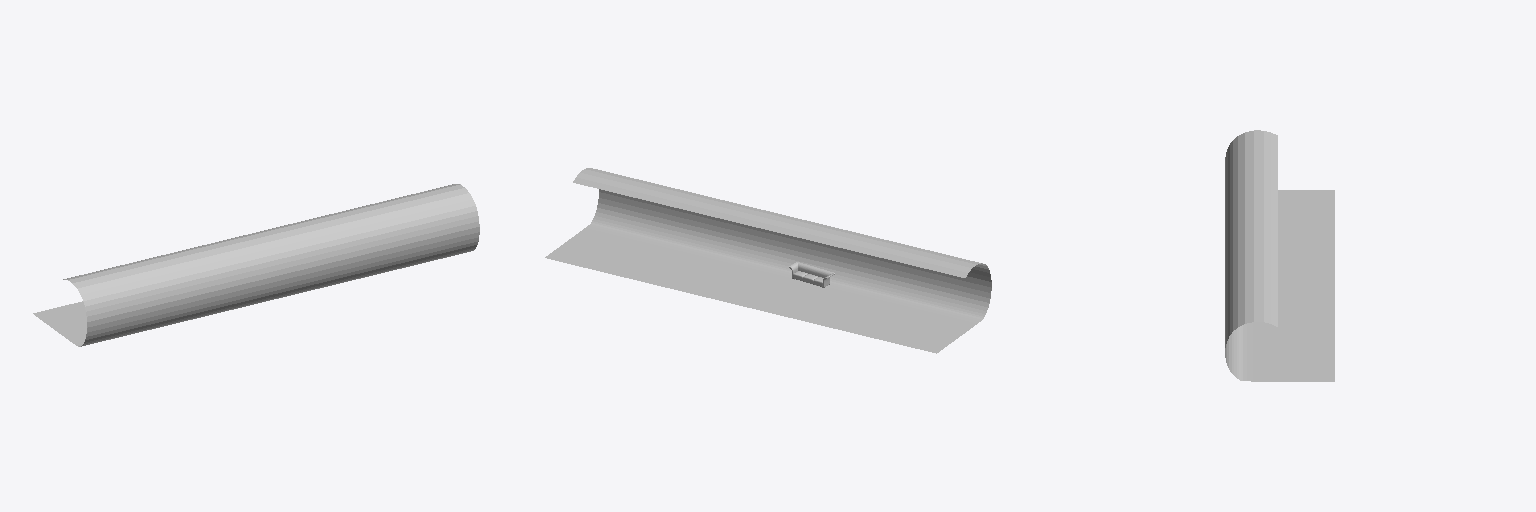
File: sede.obj
3 renders of one model, left to right at view 1: azimuth 30°, elevation 25°; view 2: azimuth 150°, elevation 25°; view 3: azimuth 270°, elevation 25°, orthographic.
Visible parts, largest first — view 1: Fob; view 2: Fob; view 3: Fob.
Boxes of the visible parts, x1,y1,x2,y2 form: Fob: [33, 184, 479, 346]; Fob: [545, 168, 991, 353]; Fob: [1225, 130, 1334, 381].
Bounding box in the file's own units: 26413 × 3825 × 6392.